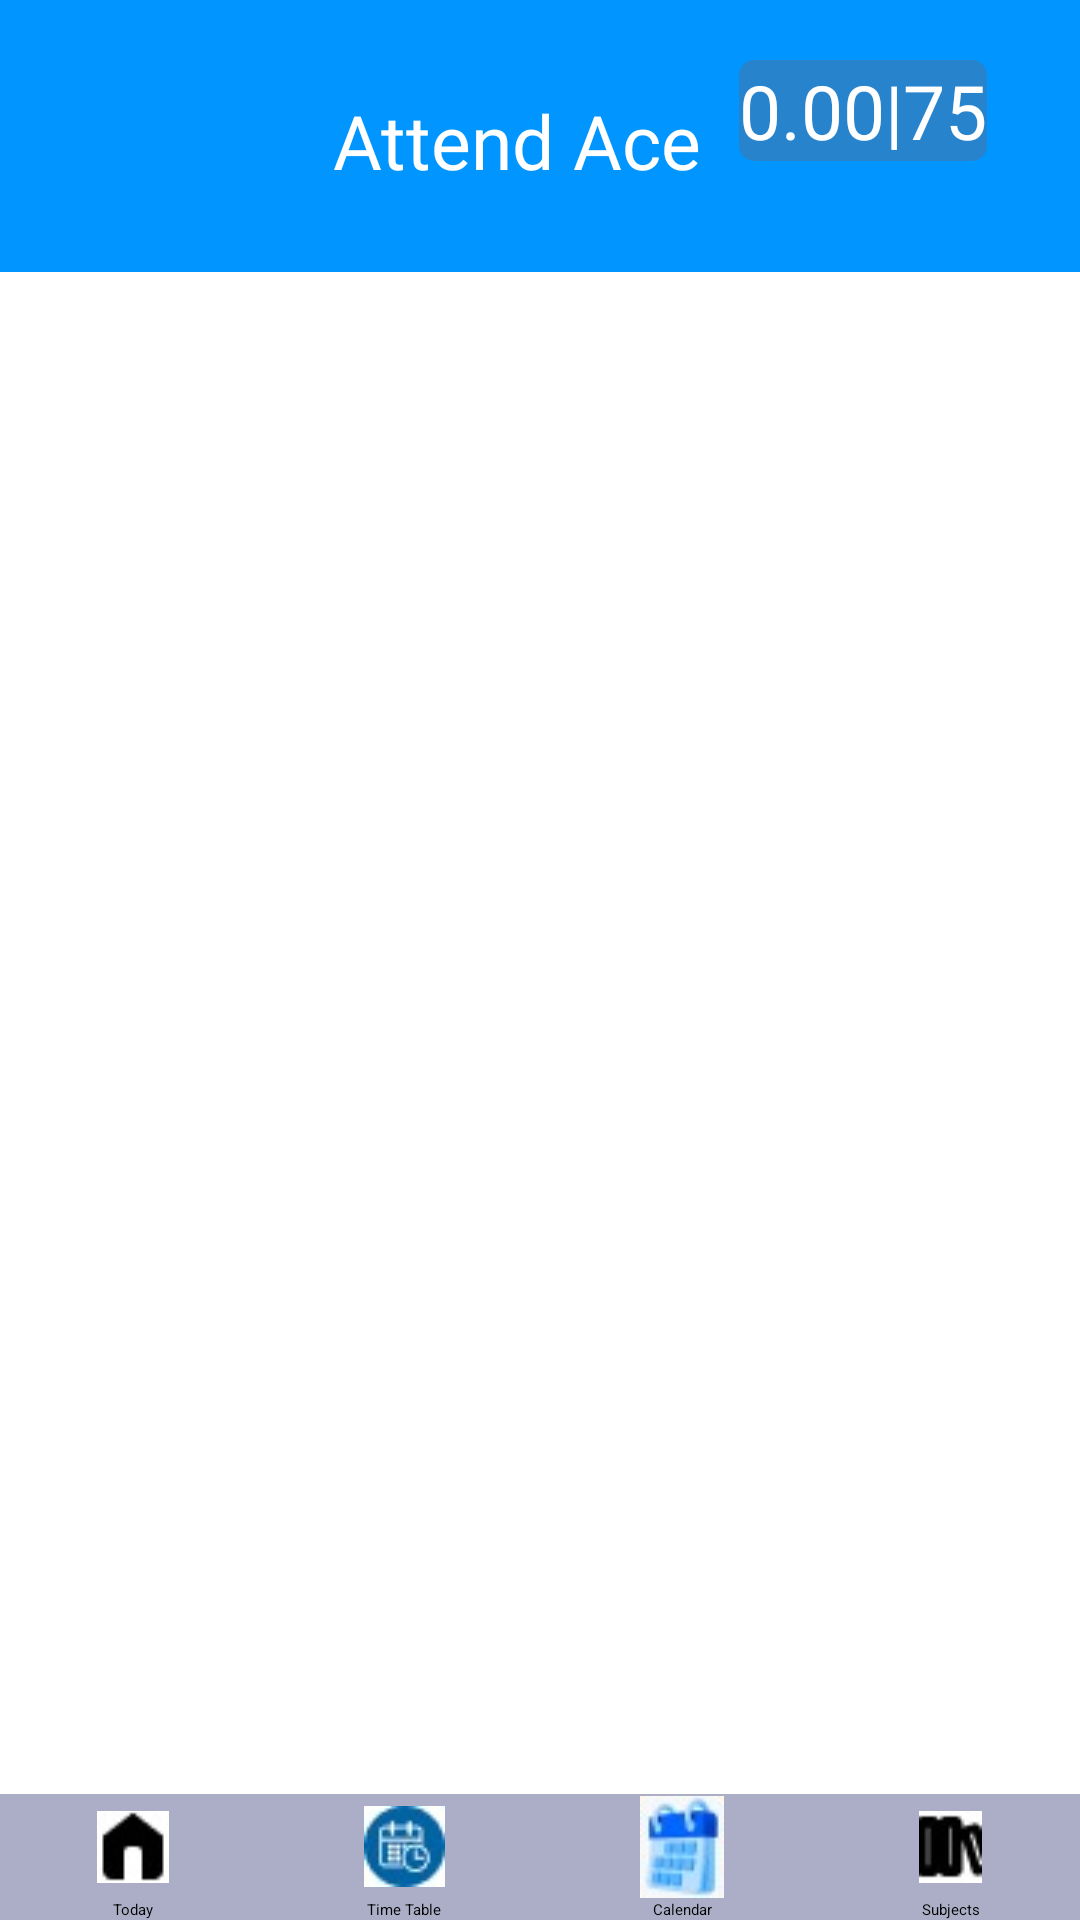

Named icons in this screenshot (1080w x 1920h) and their centers, point (x, y):
home: point (133, 1847)
